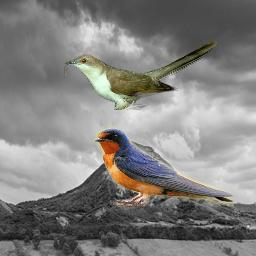Cuckoo: (64, 40, 217, 110)
Swallow: (91, 125, 234, 212)
